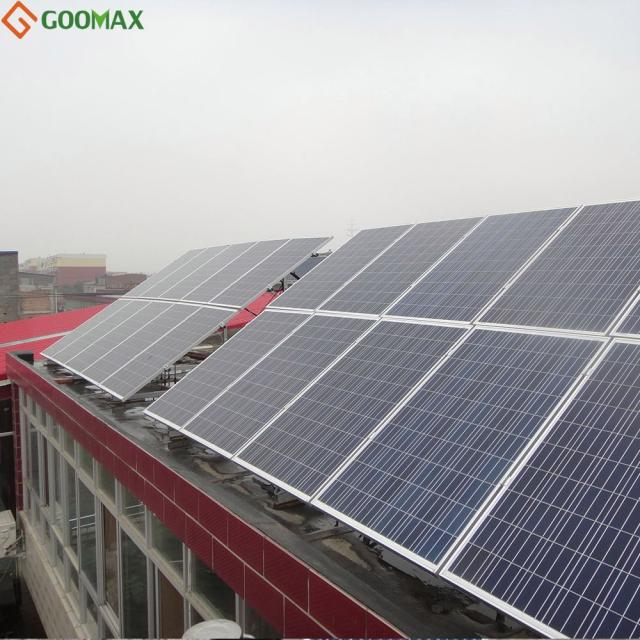clean-solar-panel: (146, 200, 640, 638), (45, 238, 330, 400)
